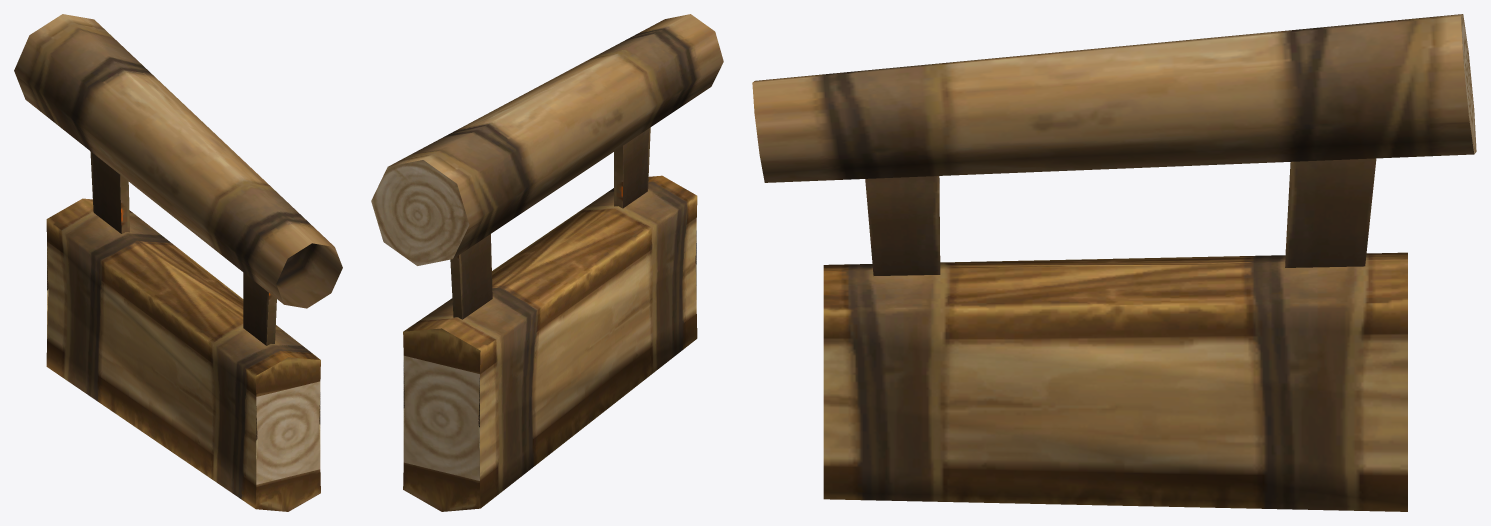
Rendered from wt_roadsign.obj.
The picture shows the model from 3 angles, left to right: view 1: azimuth 30°, elevation 25°; view 2: azimuth 150°, elevation 25°; view 3: azimuth 270°, elevation 25°; orthographic projection. The views are drawn at different scales.
Visible parts, largest first — view 1: wt_roadsign; view 2: wt_roadsign; view 3: wt_roadsign.
Boxes of the visible parts, left/top/right/bottom form: wt_roadsign: left=14, top=14, right=342, bottom=511; wt_roadsign: left=371, top=14, right=723, bottom=511; wt_roadsign: left=752, top=14, right=1476, bottom=511.
Bounding box in the file's own units: 0.2194 × 0.7827 × 1.06.
1 material, 1 textured.
